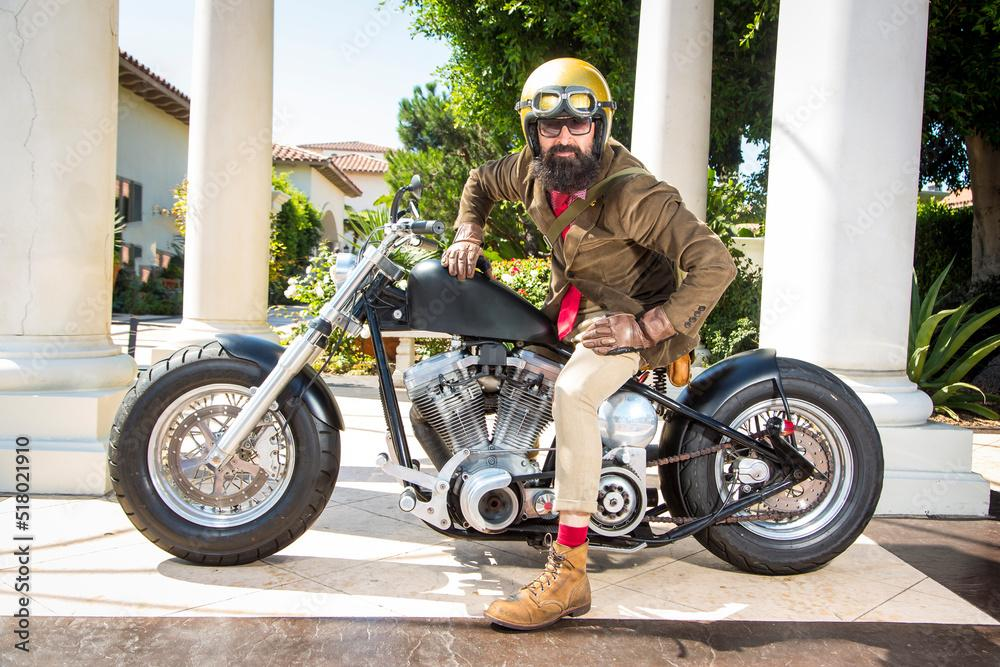helmet: (513, 56, 618, 196)
